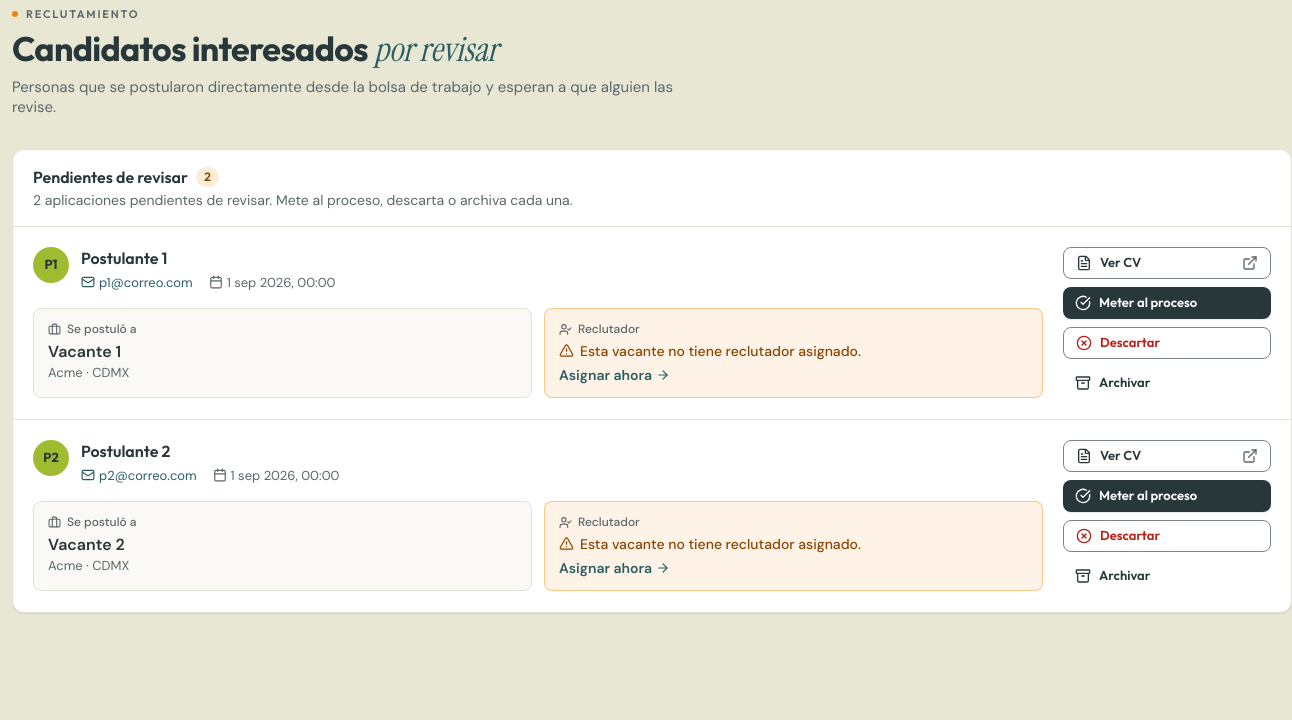
Test: /admin/direct-applications › ADM-039: si otra persona ya la movió (409), la fila desaparece y se recarga
Expected: the heading "Postulante 1" is shown, top-left (81, 248), bottom-right (167, 268)
Click the button "Descartar" in the row of "Vacante 1" at (1167,343), box top-left (1063, 327), bottom-right (1271, 359)
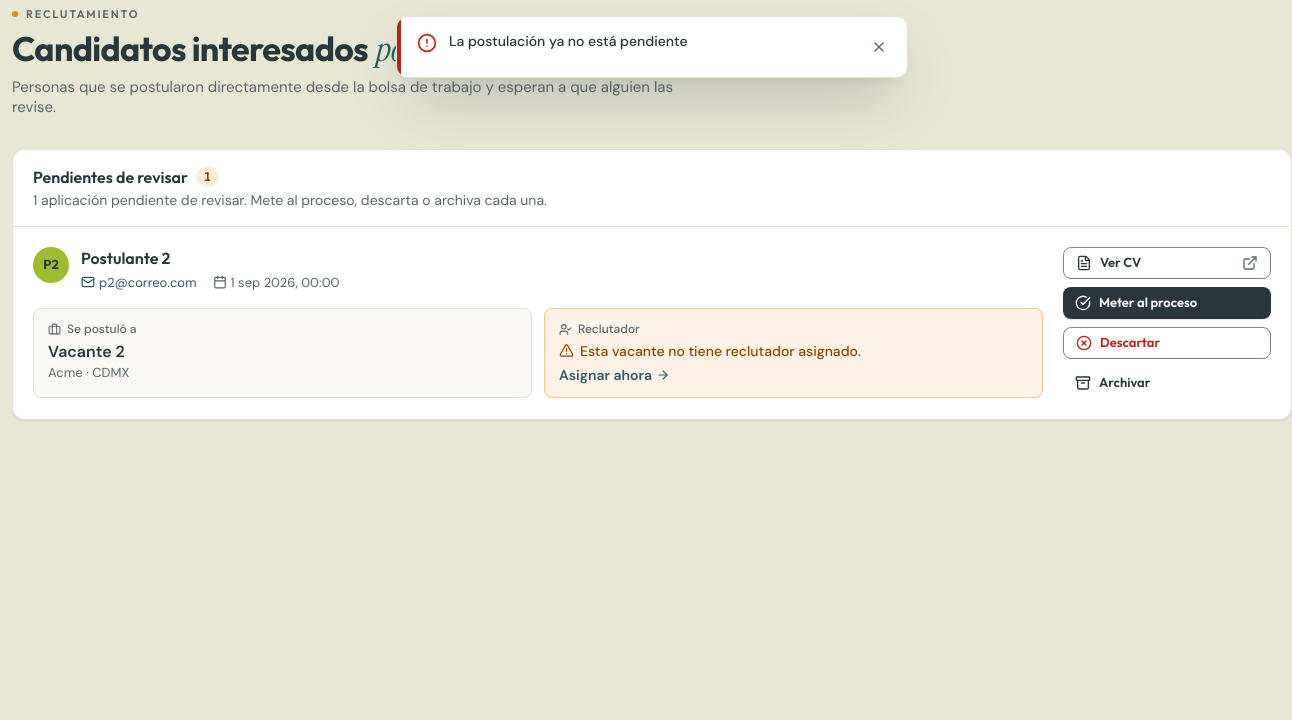
Now the heading "Postulante 1" is gone
Now the text "La postulación ya no está pendiente" is shown, box top-left (449, 32), bottom-right (688, 50)
